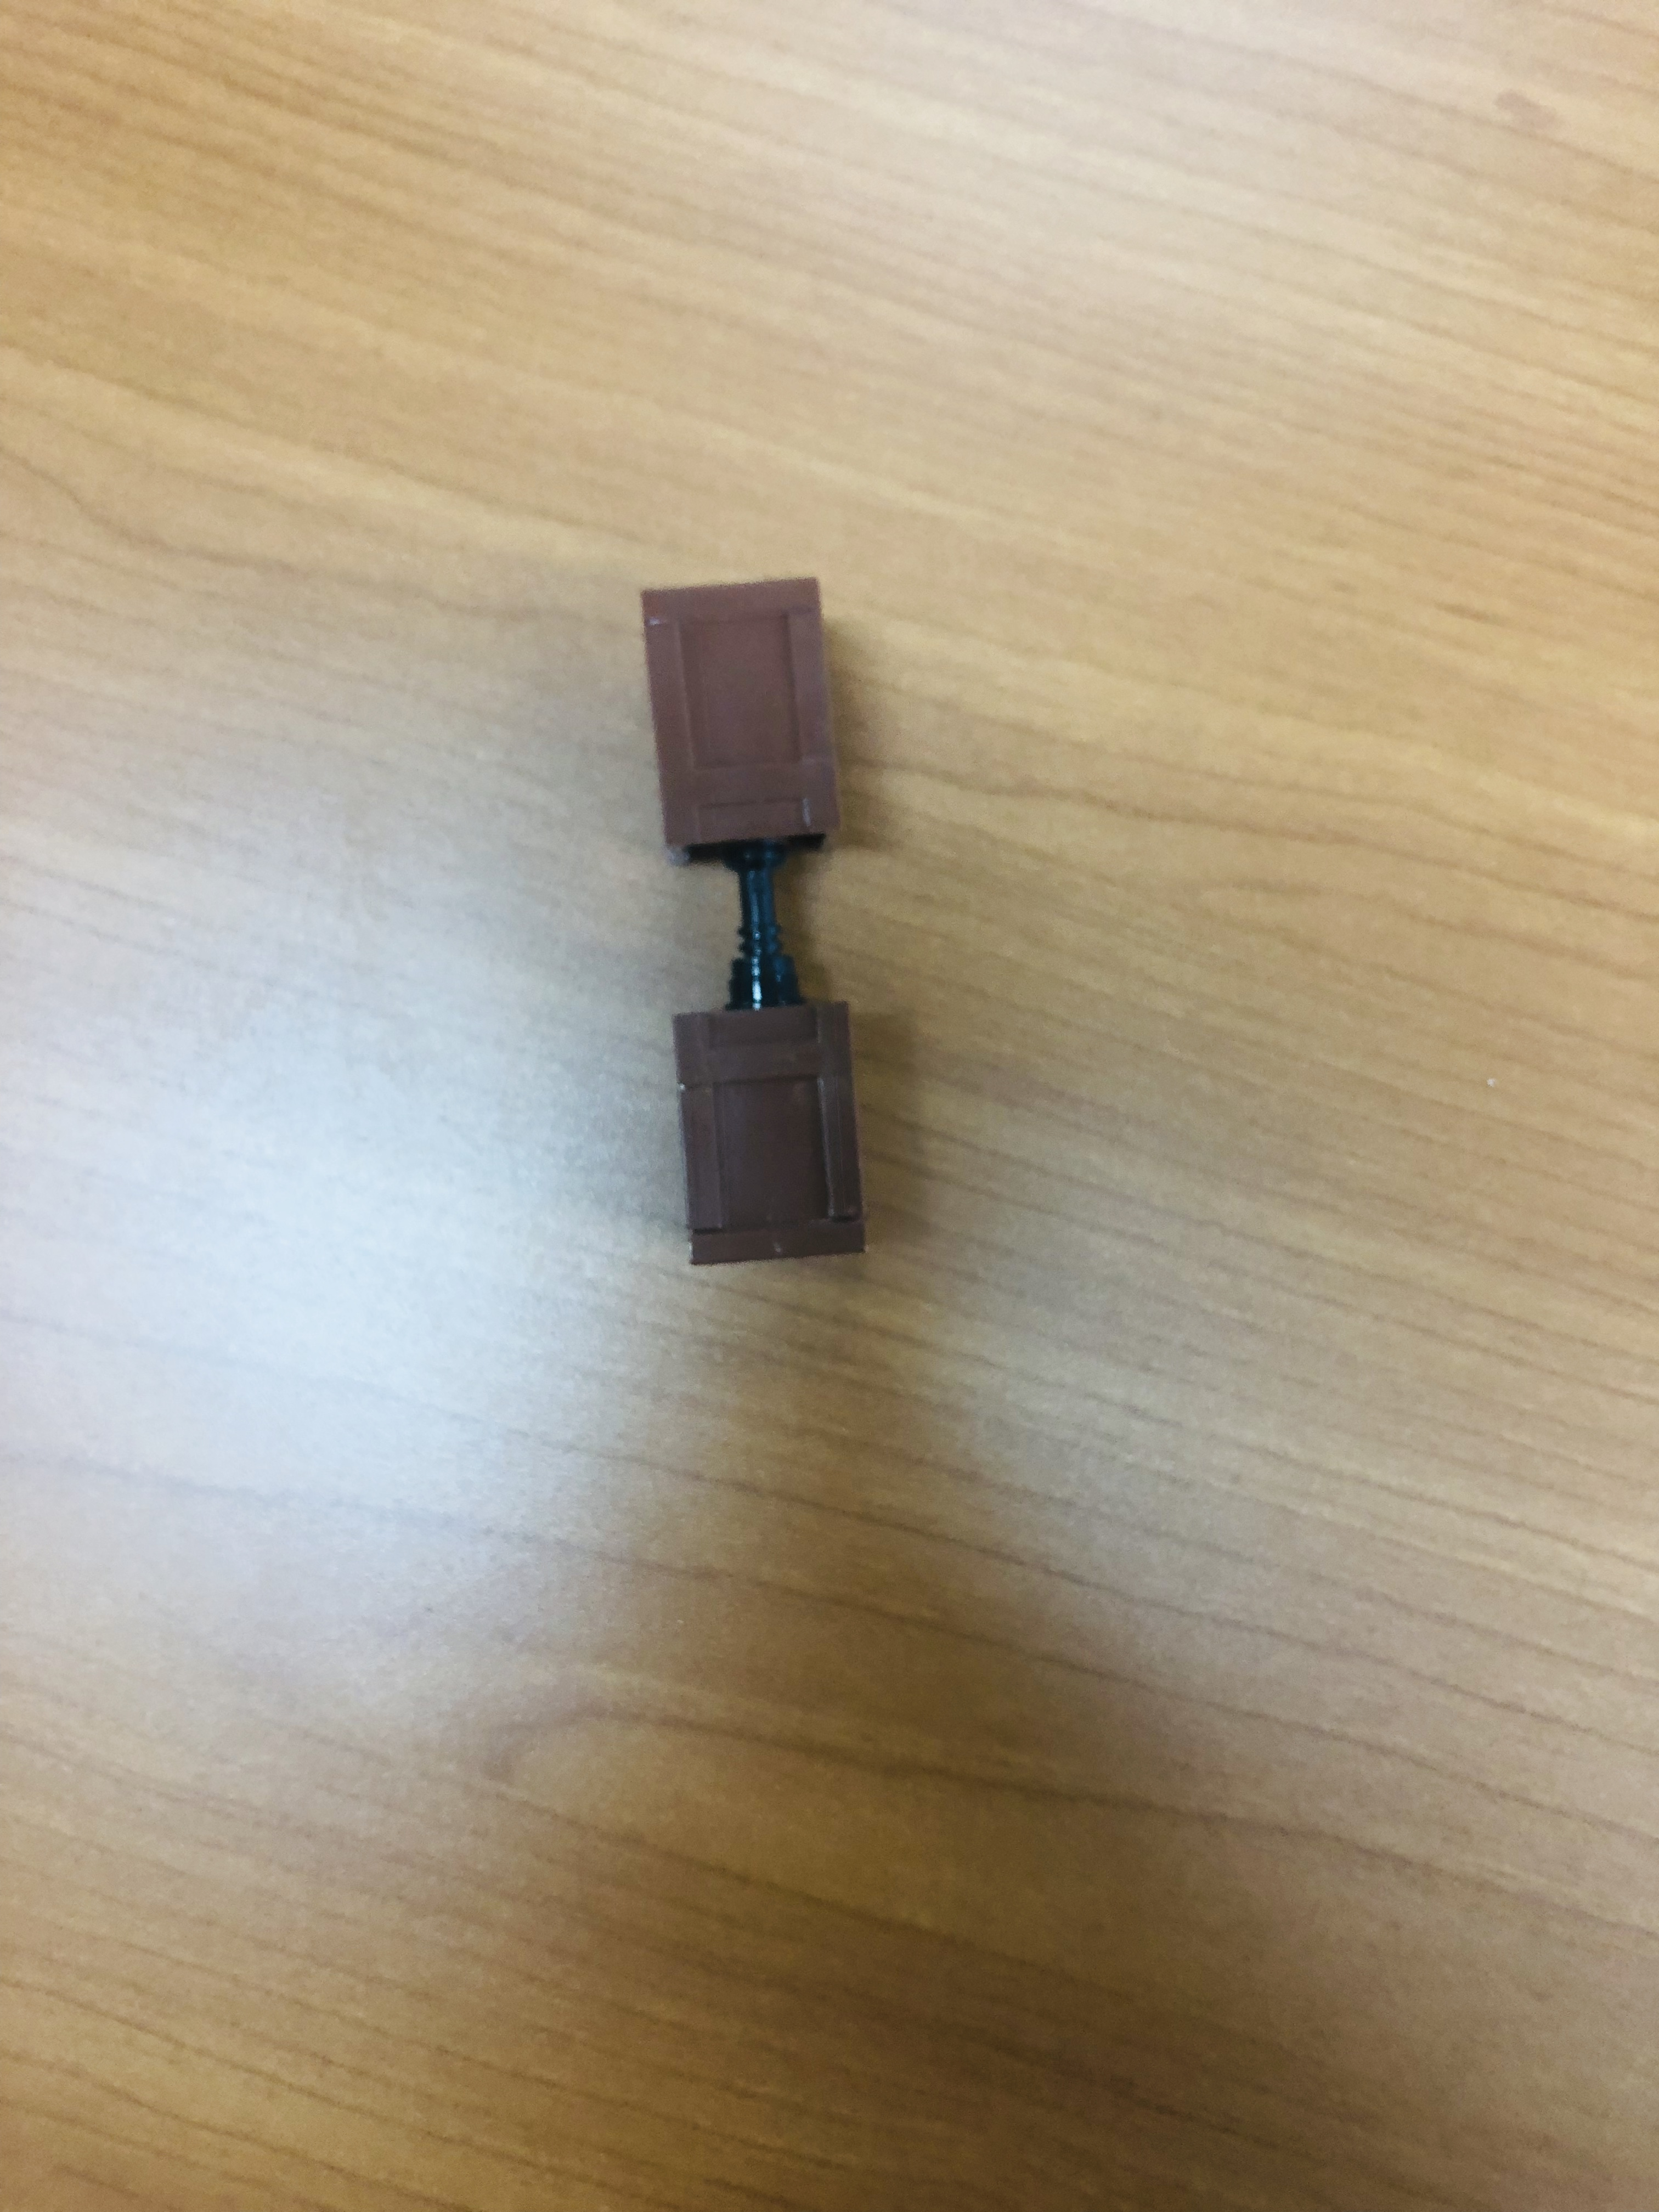box: (638, 574, 851, 871), (670, 1006, 871, 1265)
